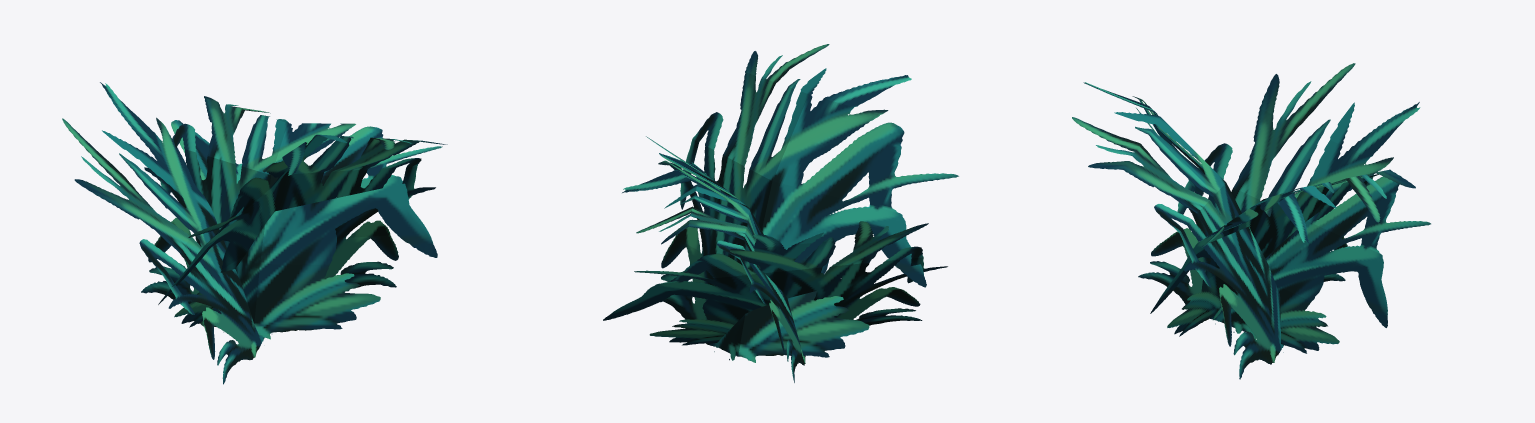
The model's file is grass large.fbx.
3 views of the same model, side by side, from view 1: azimuth 30°, elevation 25°; view 2: azimuth 150°, elevation 25°; view 3: azimuth 270°, elevation 25° (orthographic). The views are drawn at different scales.
Visible parts, largest first — view 1: Plane.009; view 2: Plane.009; view 3: Plane.009.
Boxes of the visible parts, bbox=[...] form: Plane.009: bbox=[62, 82, 447, 384]; Plane.009: bbox=[603, 44, 958, 382]; Plane.009: bbox=[1072, 63, 1430, 379].
Size of the model in its own units: 51.34 by 26.75 by 48.47.
